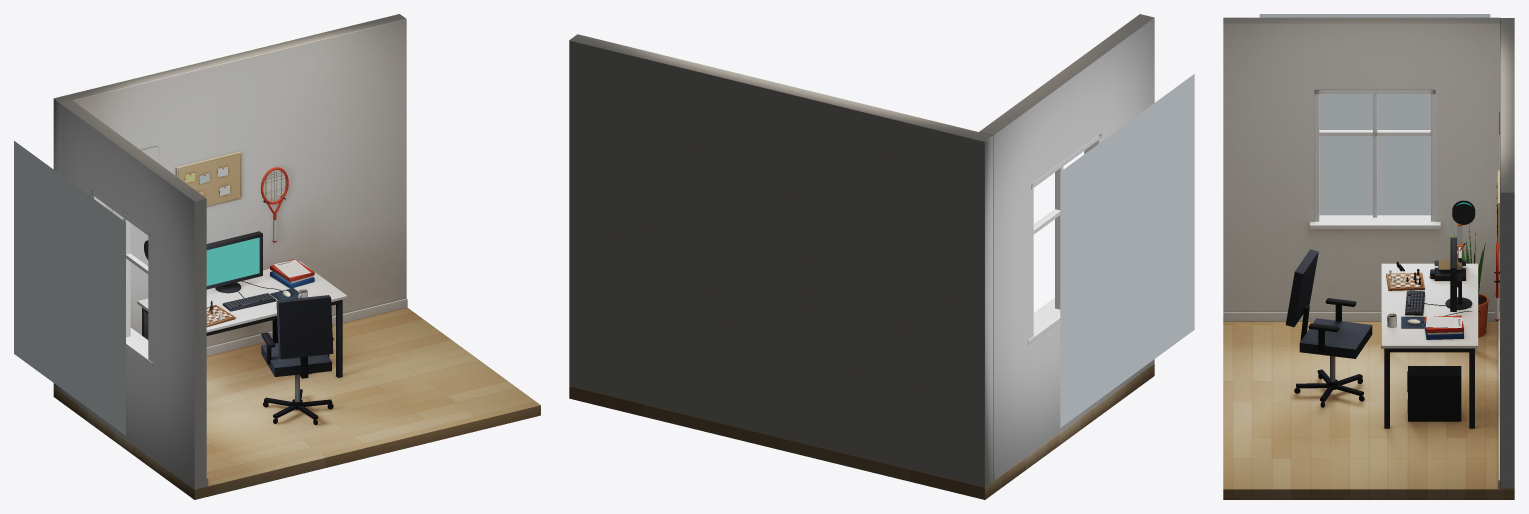
The model's file is desk.glb.
3 views of the same model, side by side, from view 1: azimuth 30°, elevation 25°; view 2: azimuth 150°, elevation 25°; view 3: azimuth 270°, elevation 25° (orthographic). The views are drawn at different scales.
Visible parts, largest first — view 1: wall_back, floor, wall_left, sky, chair, desk, screen, cork, base_back, computer_monitor, askaapm_binder, kinetiq_racket; view 2: wall_back, sky, wall_left, floor, mullion, sill; view 3: wall_left, floor, sky, wall_back, desk, chair, computer_tower, sill, base_left, shield_printer, askaapm_binder, computer_monitor (+9 smaller).
Boxes of the visible parts, x1,y1,x2,y2 form: wall_back: (53, 14, 406, 390); floor: (53, 307, 540, 499); wall_left: (60, 100, 206, 489); sky: (14, 141, 125, 435); chair: (261, 295, 333, 424); desk: (137, 261, 347, 377); screen: (206, 237, 259, 285); cork: (178, 154, 239, 205); base_back: (60, 298, 407, 391); computer_monitor: (206, 231, 262, 293); askaapm_binder: (270, 259, 314, 288); kinetiq_racket: (260, 167, 288, 242); wall_back: (569, 34, 993, 486); sky: (1060, 74, 1194, 427); wall_left: (979, 14, 1154, 480); floor: (569, 364, 1154, 499); mullion: (1055, 166, 1063, 309); sill: (1028, 298, 1060, 344); wall_left: (1223, 17, 1499, 312); floor: (1223, 321, 1514, 499); sky: (1259, 14, 1490, 215); wall_back: (1500, 18, 1514, 488); desk: (1381, 263, 1478, 428); chair: (1285, 249, 1372, 407); computer_tower: (1407, 366, 1461, 421); sill: (1309, 215, 1440, 228); base_left: (1223, 312, 1498, 321); shield_printer: (1429, 200, 1475, 280); askaapm_binder: (1424, 315, 1463, 339); computer_monitor: (1445, 237, 1472, 311).
Bounding box in the file's own units: 3.9 × 2.8 × 2.4.
6 materials, 4 textured.
